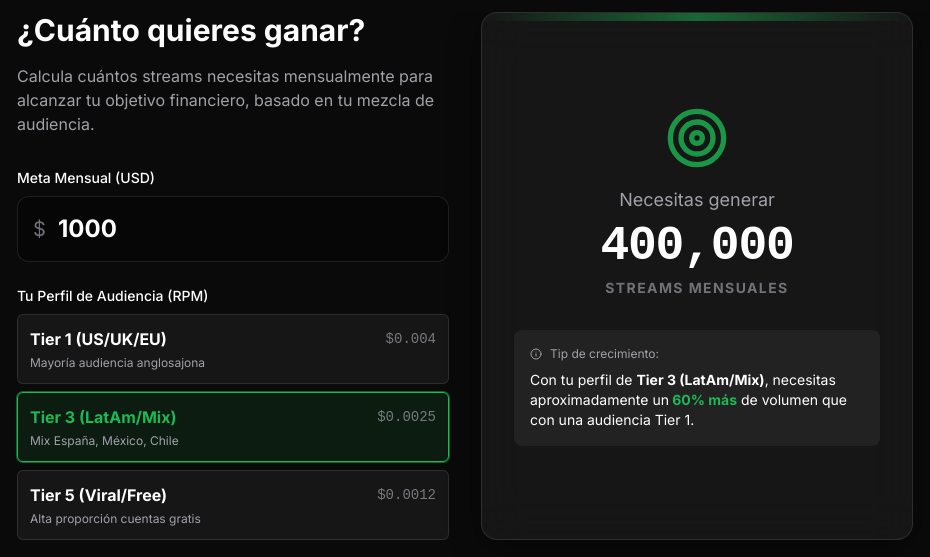
GoalCalculator › should update calculation when audience tier changes
Click the text "Tier 1 (US/UK/EU)". click: (98, 339)
box: [30,327,167,351]
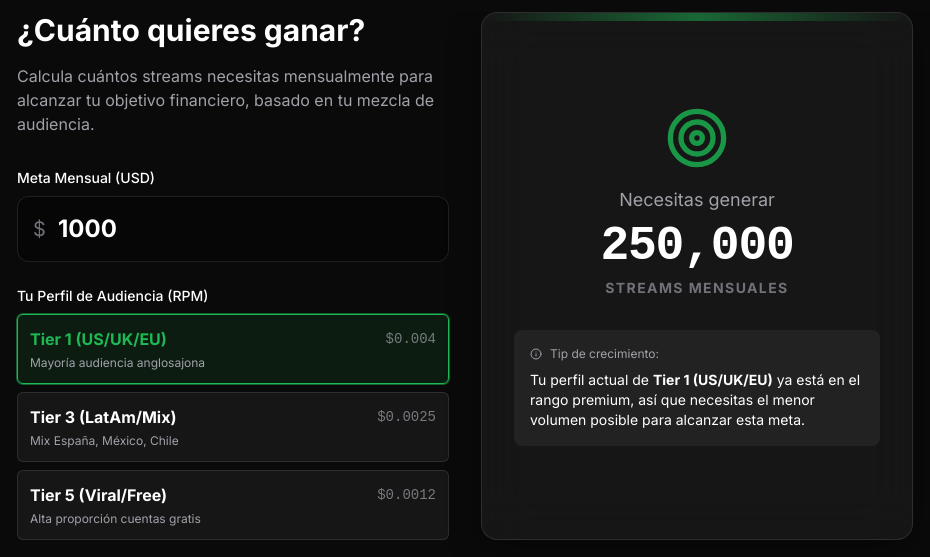
Check: the text "250,000" is shown, box [600,222,794,270]
